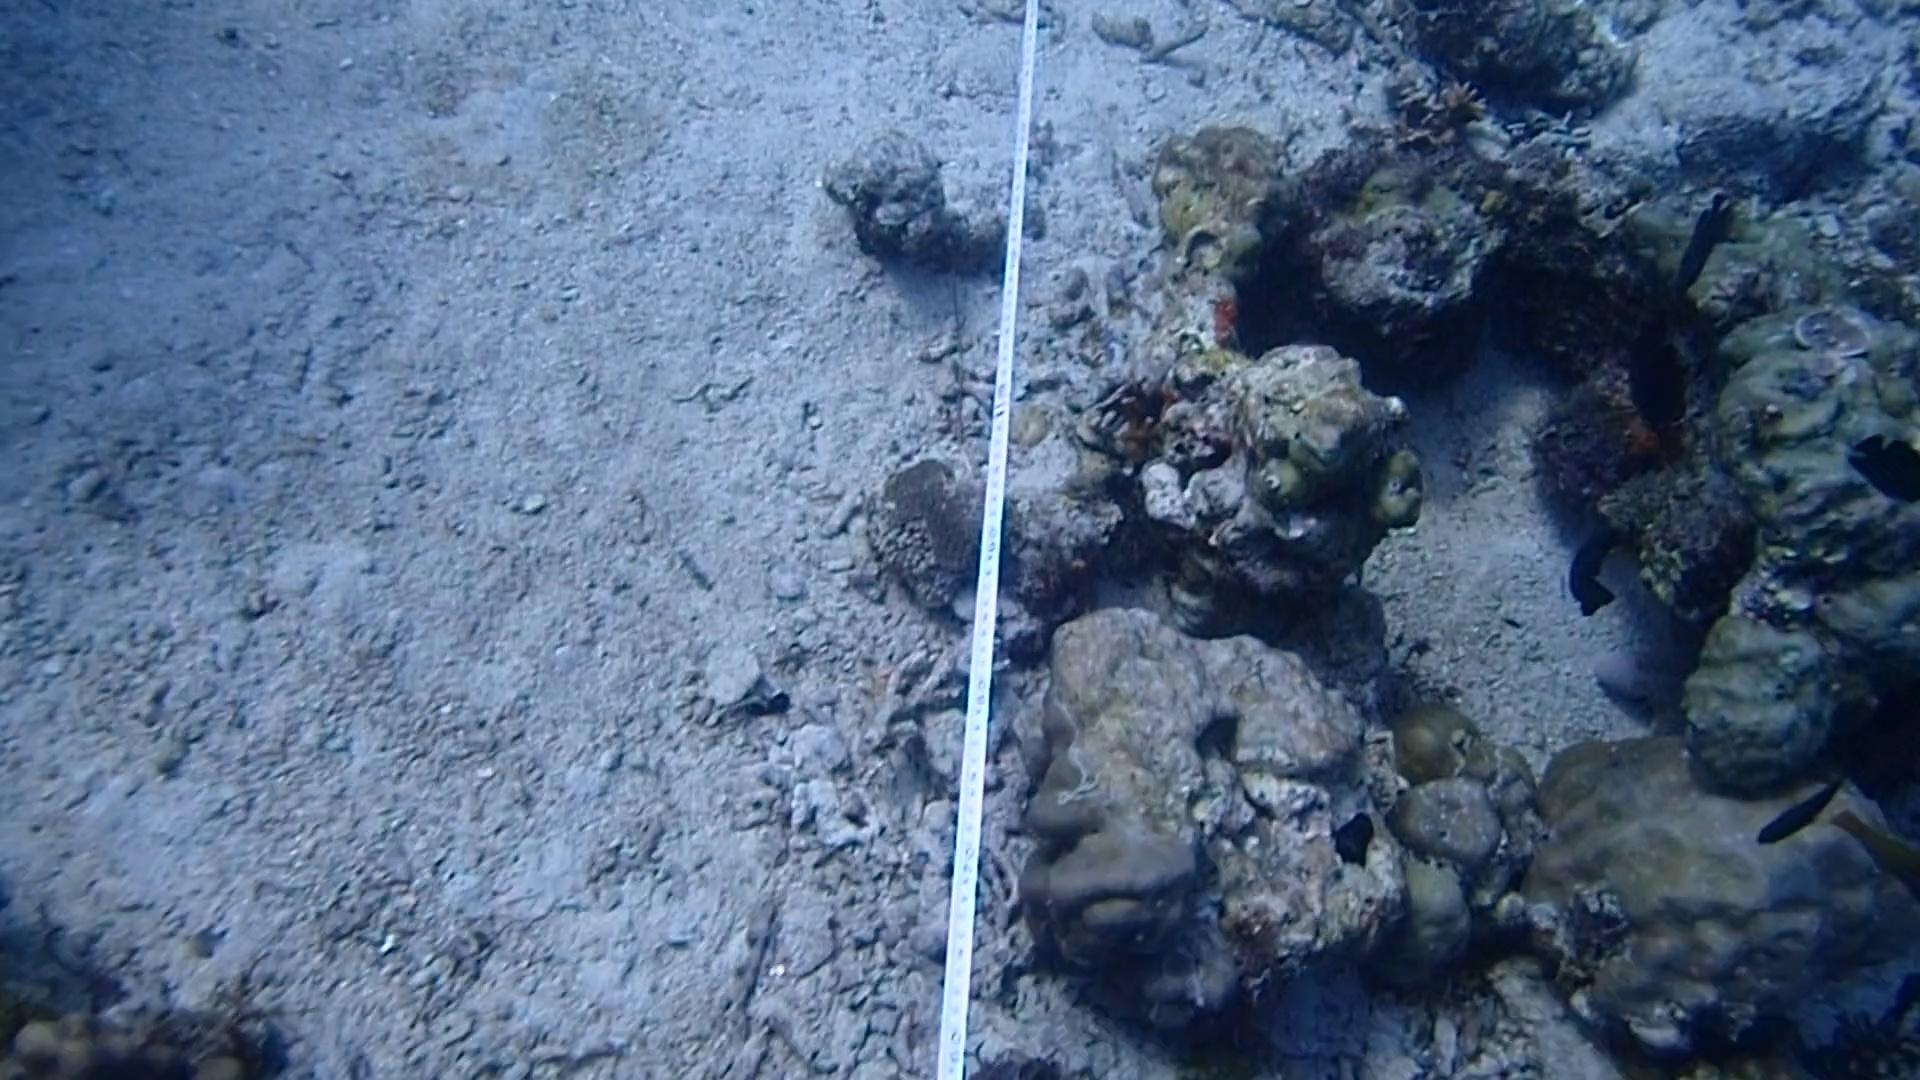Dark Fish: (1745, 757, 1850, 852), (1658, 193, 1741, 294), (1557, 516, 1633, 624), (1847, 414, 1920, 510)
Half Blue - Half Yellow: (1820, 790, 1920, 897)
